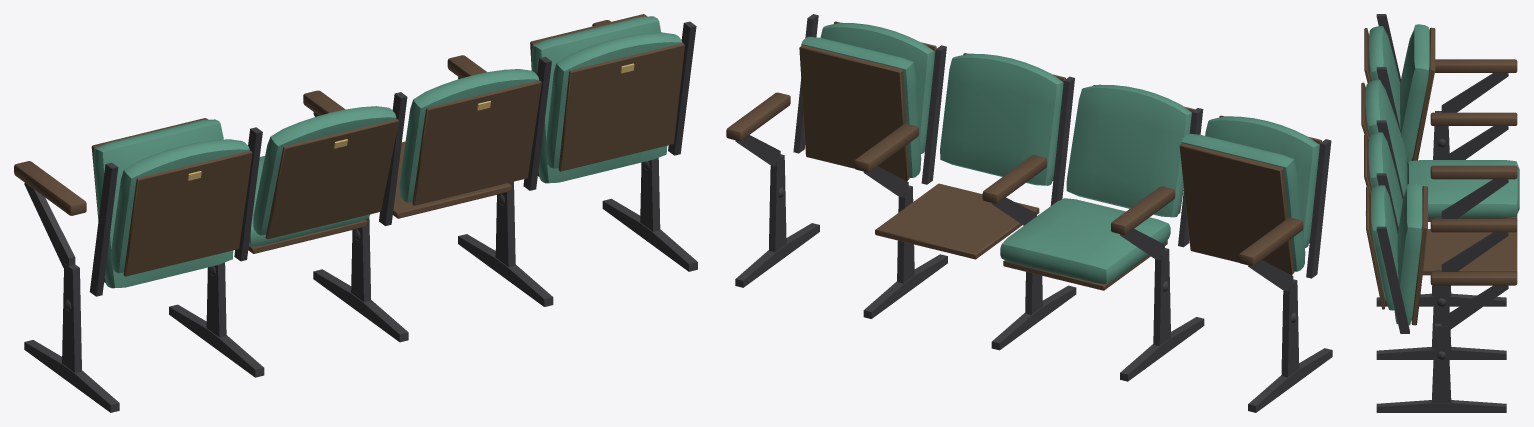
Rendered from tea_fila_c.fbx.
3 renders of one model, left to right at view 1: azimuth 30°, elevation 25°; view 2: azimuth 150°, elevation 25°; view 3: azimuth 270°, elevation 25°, orthographic. The views are drawn at different scales.
Parts seen in each view (by area): view 1: tea_fila_c_legno, tea_fila_c_velluto, tea_fila_c_ferro; view 2: tea_fila_c_velluto, tea_fila_c_legno, tea_fila_c_ferro; view 3: tea_fila_c_velluto, tea_fila_c_ferro, tea_fila_c_legno.
Boxes of the visible parts, x1,y1,x2,y2 form: tea_fila_c_legno: [14, 14, 684, 283]; tea_fila_c_velluto: [93, 16, 682, 288]; tea_fila_c_ferro: [24, 21, 697, 412]; tea_fila_c_velluto: [801, 22, 1319, 284]; tea_fila_c_legno: [726, 21, 1321, 290]; tea_fila_c_ferro: [735, 14, 1332, 412]; tea_fila_c_velluto: [1365, 24, 1519, 325]; tea_fila_c_ferro: [1376, 14, 1508, 412]; tea_fila_c_legno: [1361, 27, 1517, 325].
Bounding box in the file's own units: 2.39 × 0.9484 × 0.7295.
